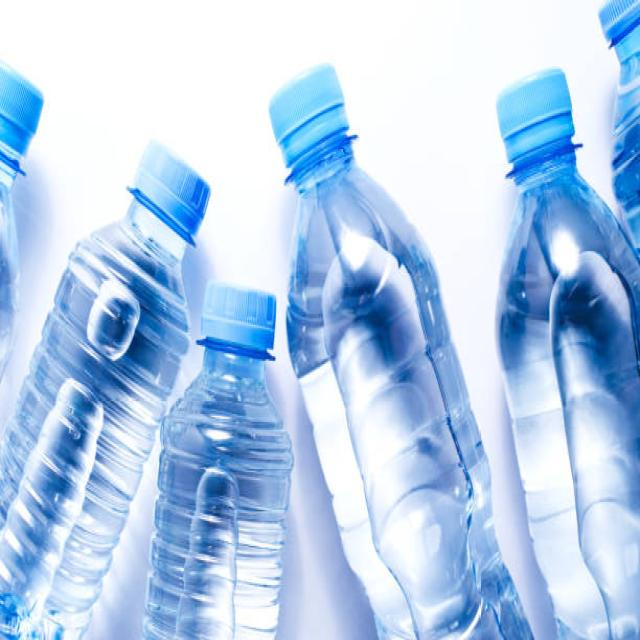blue_bottle: (267, 52, 539, 634), (3, 130, 216, 638), (488, 58, 639, 637), (140, 278, 301, 636), (2, 50, 50, 390)
